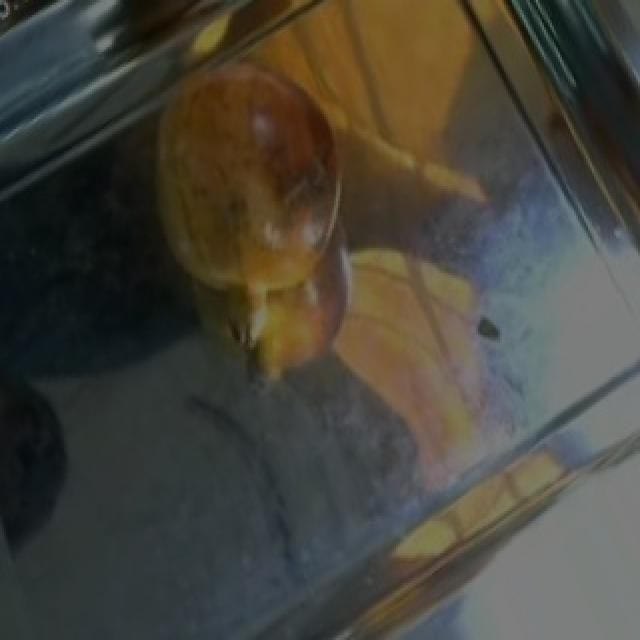fruit: (124, 37, 372, 315)
